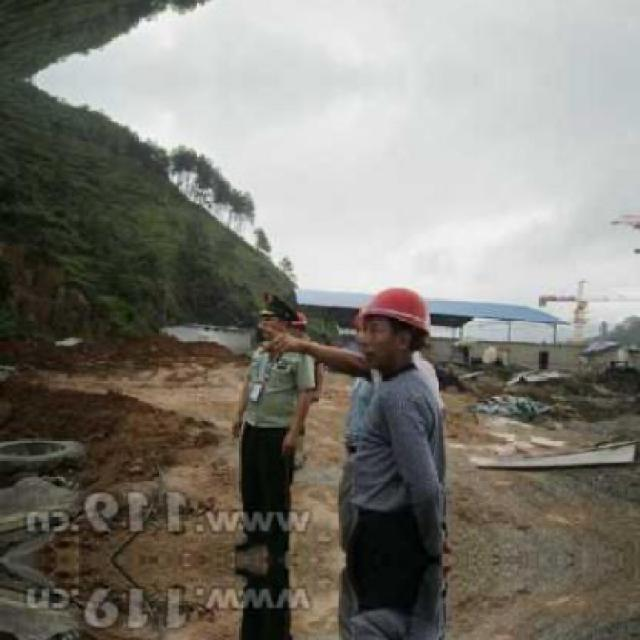helmet: (352, 274, 440, 372)
